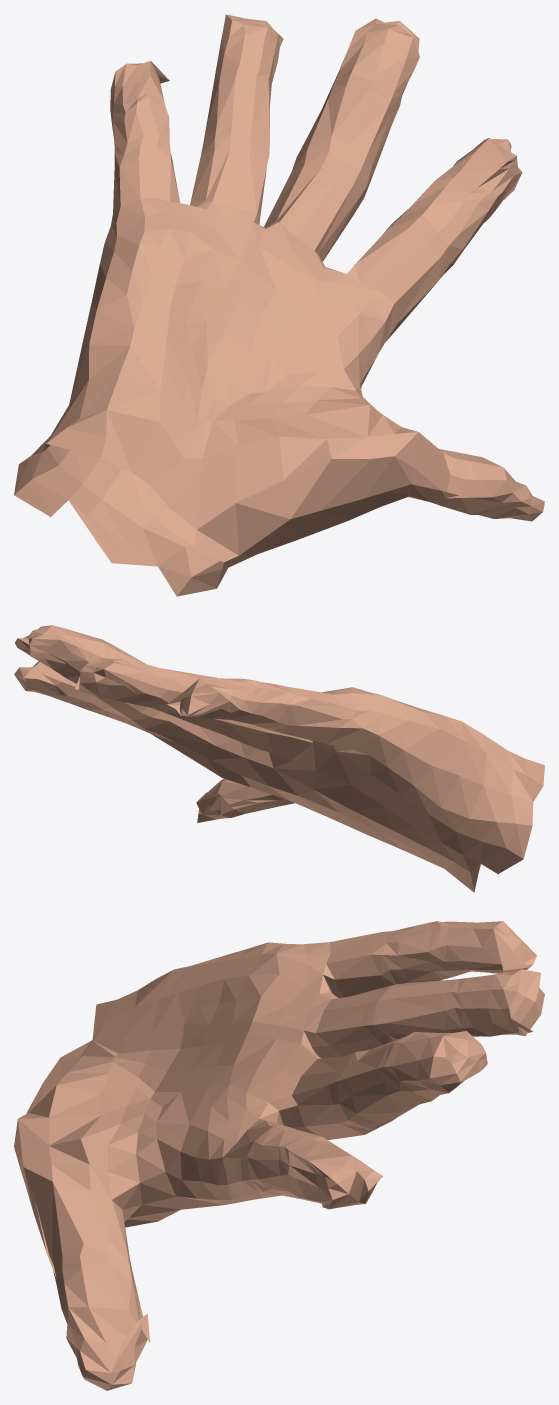
The model's file is sample_0001.obj.
3 renders of one model, top to bottom at view 1: azimuth 30°, elevation 25°; view 2: azimuth 150°, elevation 25°; view 3: azimuth 270°, elevation 25°, orthographic. The views are drawn at different scales.
Size of the model in its own units: 0.1704 by 0.1042 by 0.1338.
